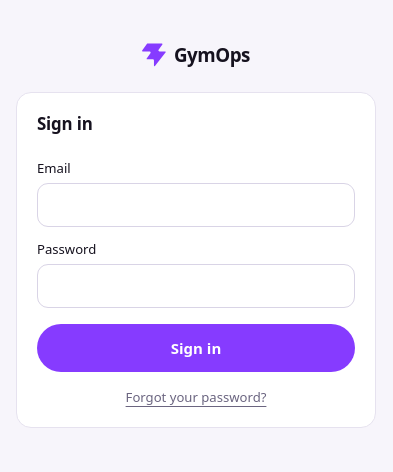
it: LoginPage › says an account is deactivated instead of blaming the password
This screenshot has width=393, height=472.
Type "staff@gymops.test" into the field labelled "Email" at (196, 205), box [37,183,355,227]
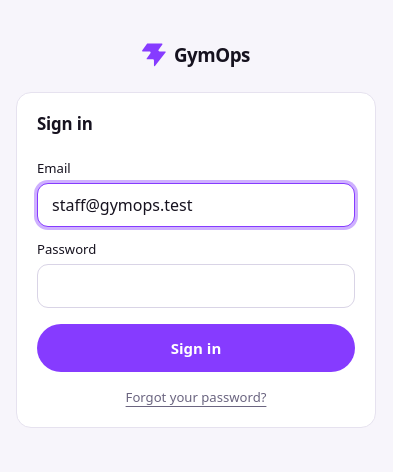
Type "Password123" into the password field labelled "Password" at (196, 286), box [37,264,355,308]
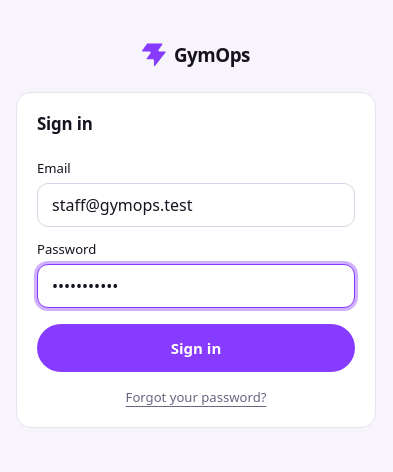
Click the button "Sign in" at (196, 348), box [37,324,355,372]
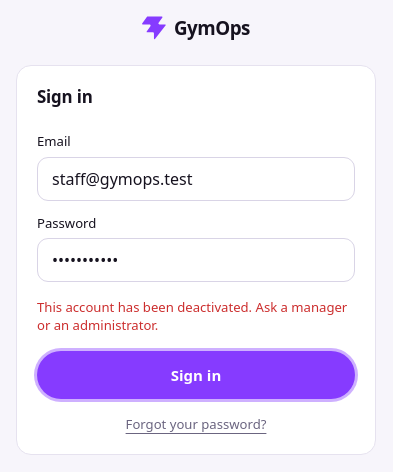
Expected: the message shows "This account has been deactivated", [37,298,347,334]
